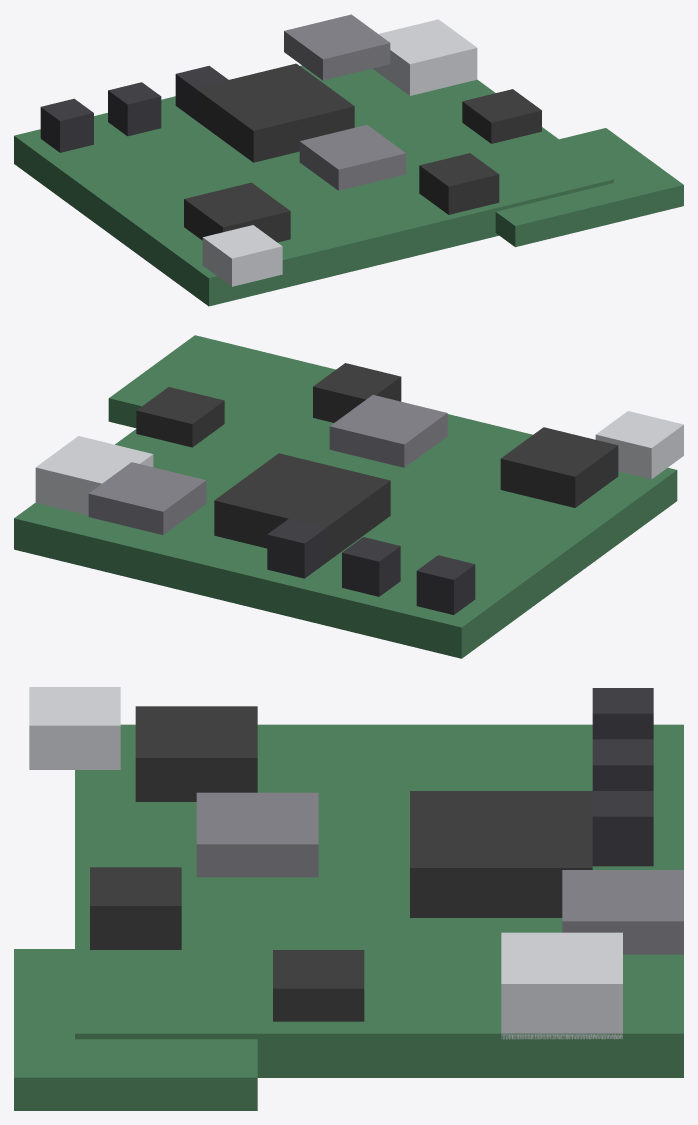
The model's file is mainboard.gltf.
The picture shows the model from 3 angles, top to bottom: view 1: azimuth 30°, elevation 25°; view 2: azimuth 150°, elevation 25°; view 3: azimuth 270°, elevation 25°; orthographic projection. The views are drawn at different scales.
Visible parts, largest first — view 1: mainboard; view 2: mainboard; view 3: mainboard.
Part boxes in pixels (x1,y1,x2,y2): mainboard: (14, 14, 683, 306); mainboard: (14, 335, 683, 658); mainboard: (14, 687, 683, 1110).
Size of the model in its own units: 0.135 by 0.019 by 0.11.
